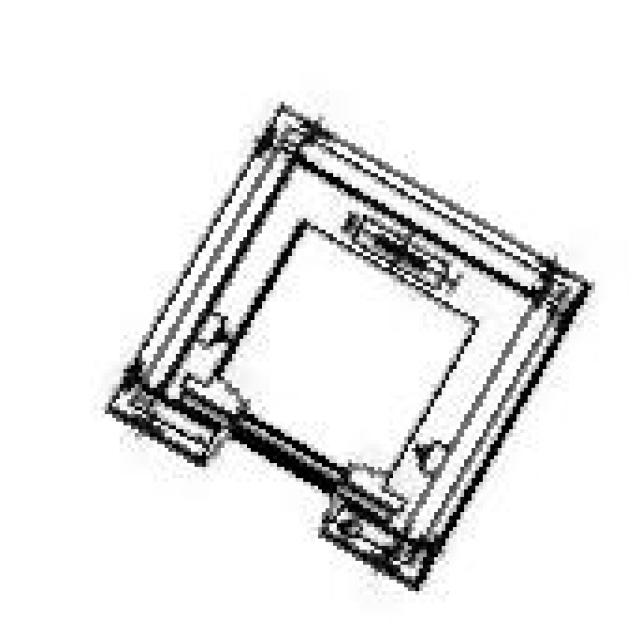lift: (101, 98, 591, 583)
